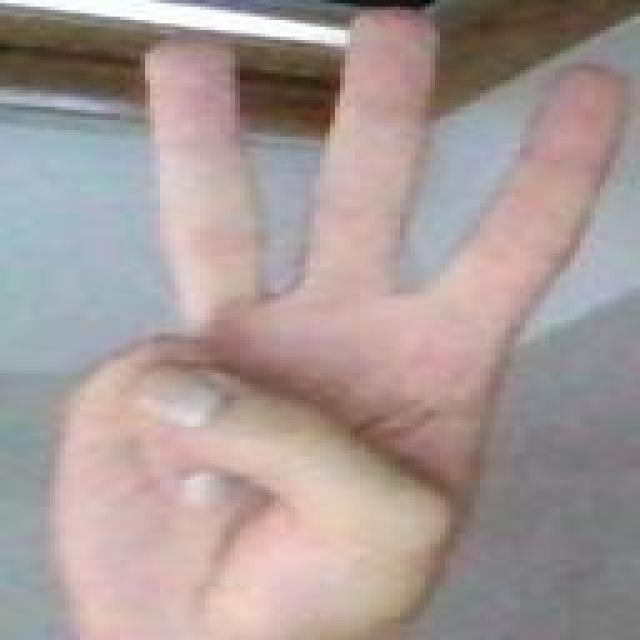W: (11, 11, 629, 593)
